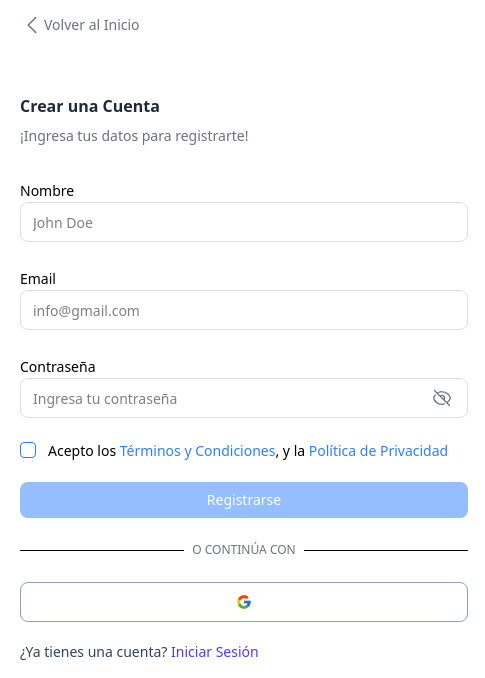
Test case: SignUpForm › should enable the submit button when terms are accepted
Expected: the button "Registrarse" is disabled, [20,482,468,518]
Click the checkbox named "acepto los".
click(28, 450)  # box [20,442,36,458]
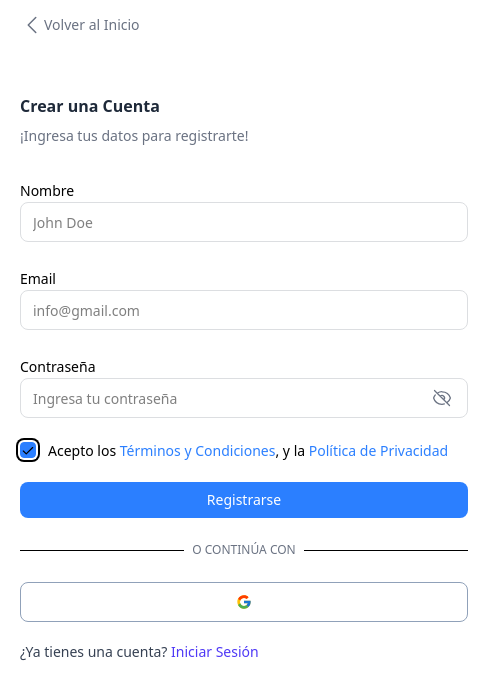
Expected: the button "Registrarse" is enabled, [20,482,468,518]
Click the checkbox named "acepto los".
click(28, 450)  # box [20,442,36,458]
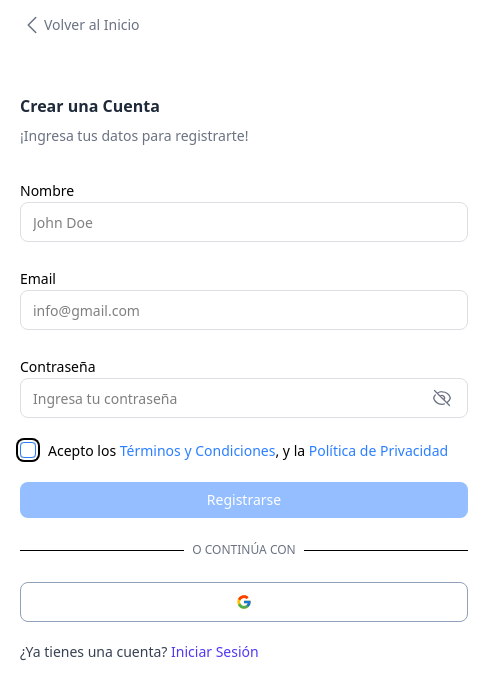
Expected: the button "Registrarse" is disabled, [20,482,468,518]
